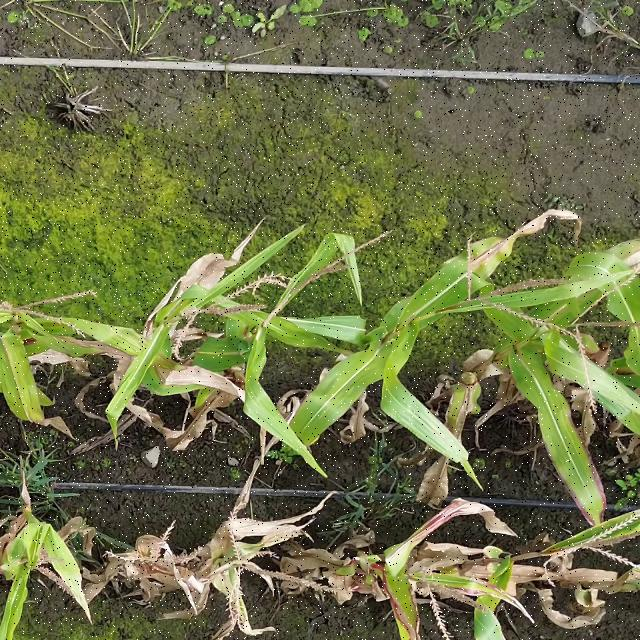northern-leaf-blight: (461, 243, 512, 277), (451, 384, 480, 426), (1, 341, 24, 383)
